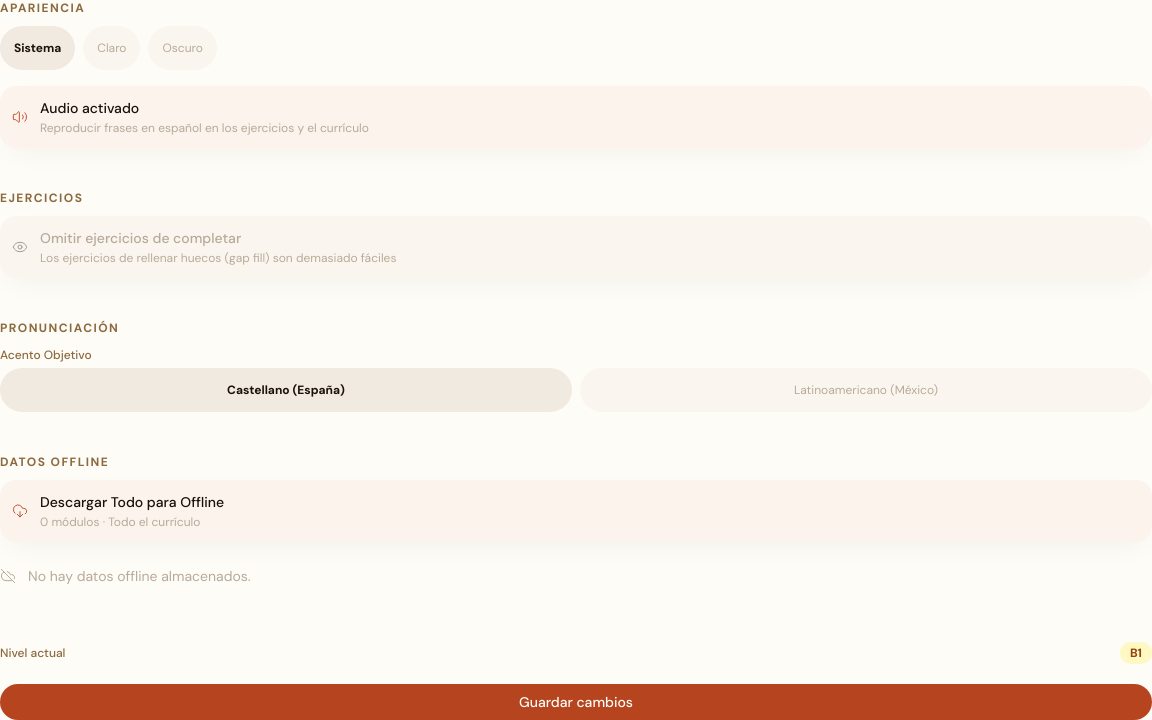
Test: AccountForm › shows API error message on failed save
(page scrolled)
Click the button "Guardar cambios" at [576, 702], box x1=0 y1=684 x2=1151 y2=719
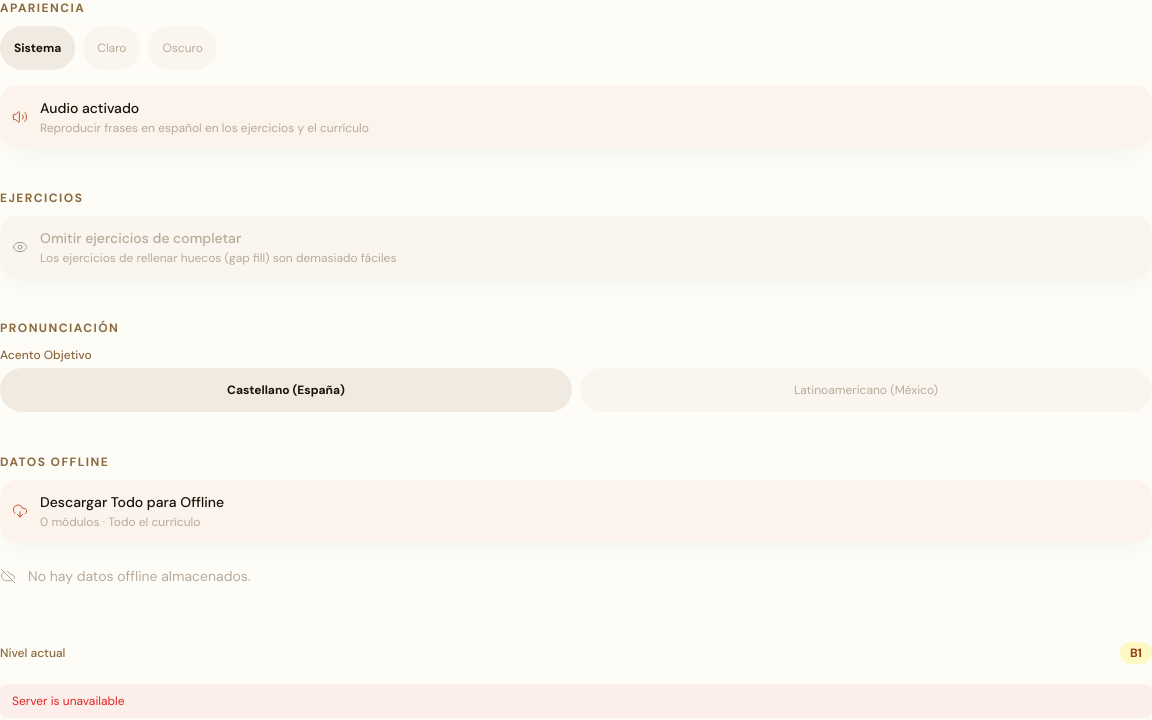
Expected: the text "Server is unavailable" is shown, x1=0 y1=684 x2=1151 y2=718
